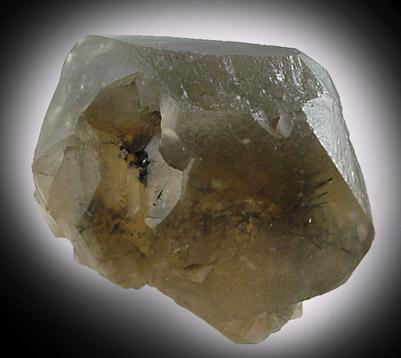calcite: (35, 36, 375, 344)
